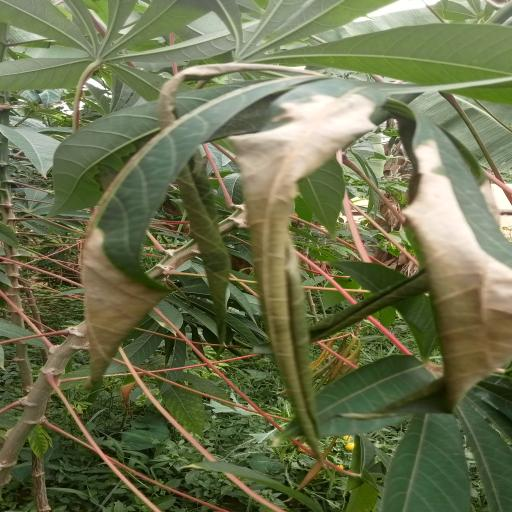Cassava_Root_Rot: (68, 66, 512, 439)
